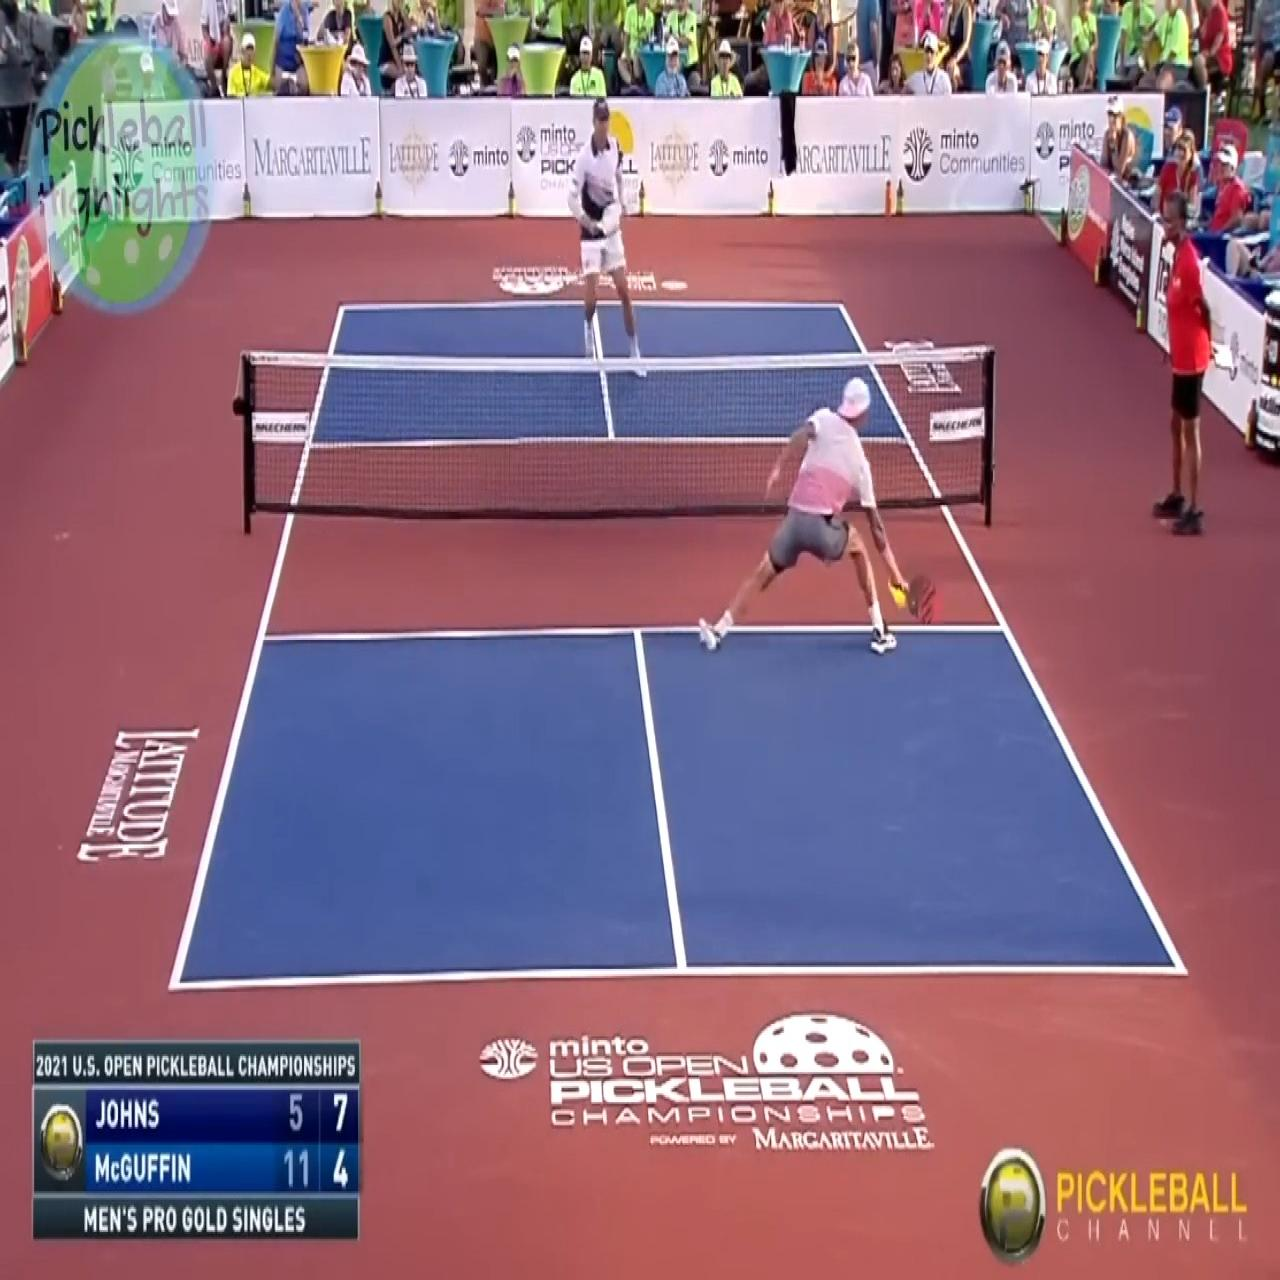pickleball: (890, 586, 907, 611)
